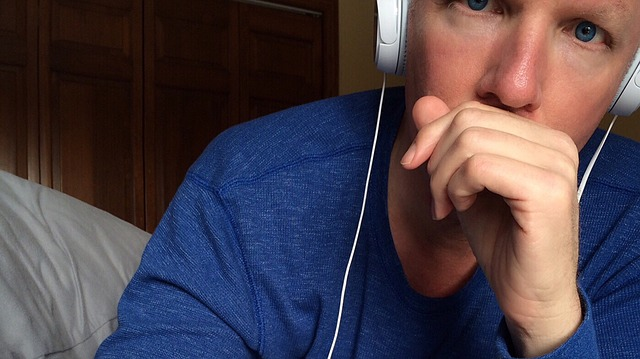headphones: (377, 1, 640, 114)
